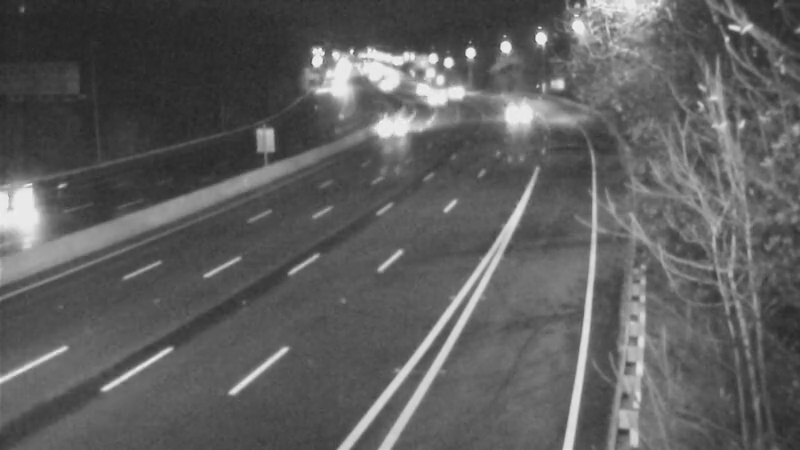vehicle: (1, 164, 70, 244), (388, 61, 438, 111), (430, 65, 480, 115), (402, 74, 452, 124), (494, 86, 544, 136), (365, 99, 415, 149)
